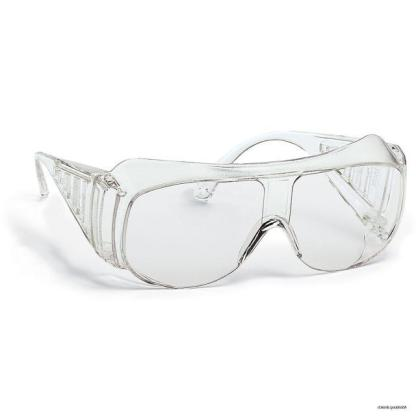oculos: (26, 124, 411, 294)
